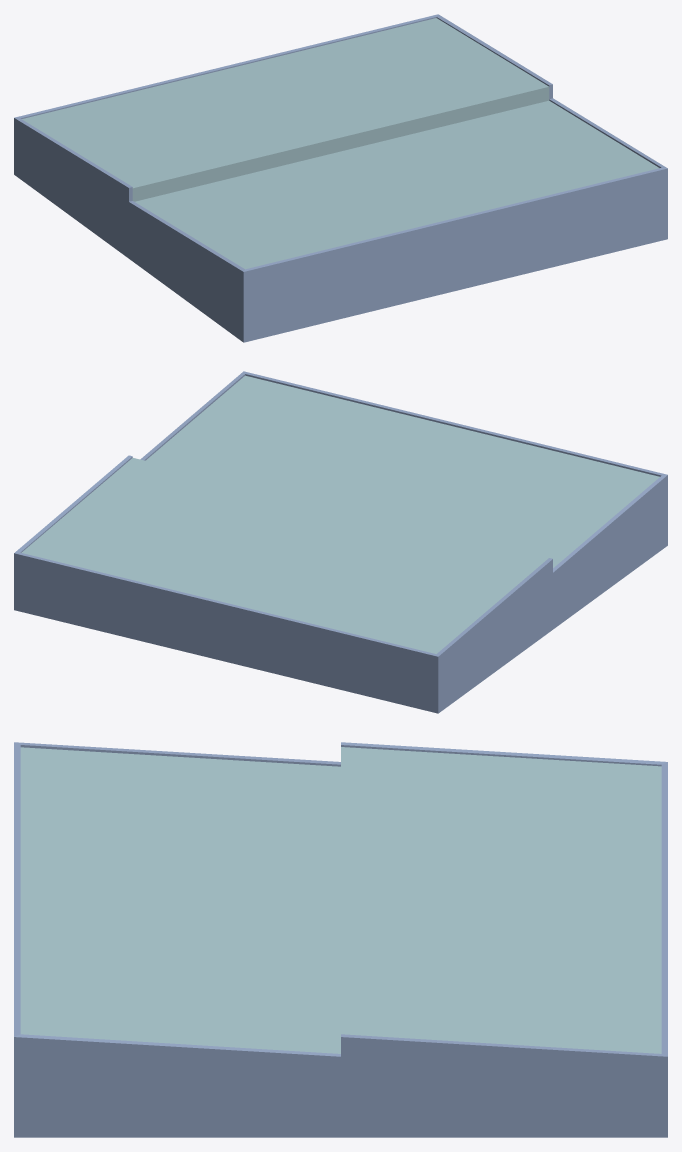
Rendered from hangar.fbx.
3 views of the same model, one above another, from view 1: azimuth 30°, elevation 25°; view 2: azimuth 150°, elevation 25°; view 3: azimuth 270°, elevation 25° (orthographic). The views are drawn at different scales.
Visible parts, largest first — view 1: hangar_level-1_floor, hangar_level-2_walls; view 2: hangar_level-1_floor, hangar_level-2_walls; view 3: hangar_level-1_floor, hangar_level-2_walls.
Part boxes in pixels (x1,y1,x2,y2): hangar_level-1_floor: (22, 18, 659, 269); hangar_level-2_walls: (14, 14, 667, 342); hangar_level-1_floor: (21, 375, 659, 653); hangar_level-2_walls: (14, 371, 667, 713); hangar_level-1_floor: (20, 747, 661, 1053); hangar_level-2_walls: (14, 742, 667, 1137).
Size of the model in its own units: 3200 by 510 by 3000.
